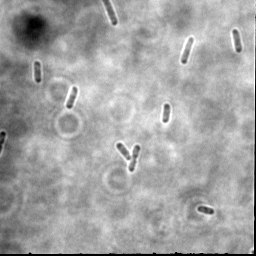Dividing: (128, 144, 142, 173)
Rod: (179, 35, 196, 65), (102, 1, 119, 26), (114, 141, 132, 162), (64, 85, 79, 110), (230, 28, 243, 53), (33, 60, 43, 84), (161, 103, 171, 124), (196, 205, 215, 215)
